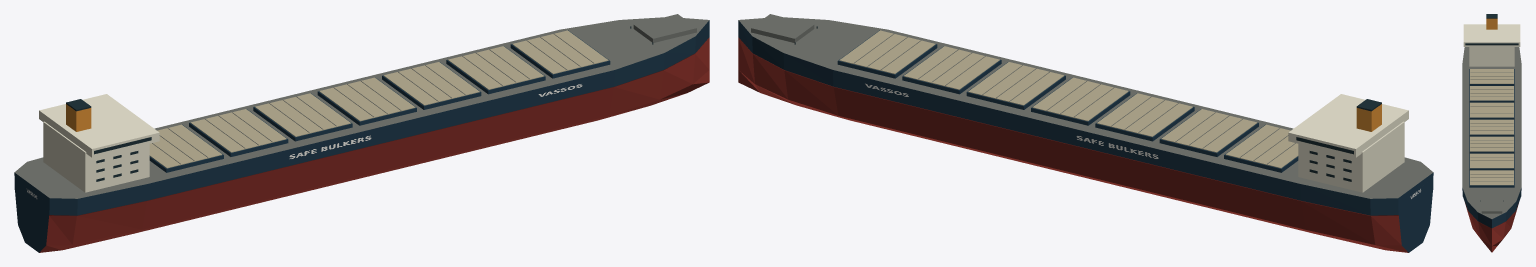
Rendered from ship.dae.
The picture shows the model from 3 angles, left to right: view 1: azimuth 30°, elevation 25°; view 2: azimuth 150°, elevation 25°; view 3: azimuth 270°, elevation 25°; orthographic projection. The views are drawn at different scales.
Visible parts, largest first — view 1: Ship; view 2: Ship; view 3: Ship.
Boxes of the visible parts, x1,y1,x2,y2 form: Ship: [14, 14, 709, 252]; Ship: [738, 14, 1433, 252]; Ship: [1462, 14, 1521, 252].
Bounding box in the file's own units: 229 × 32.24 × 42.65.
1 material, 1 textured.
